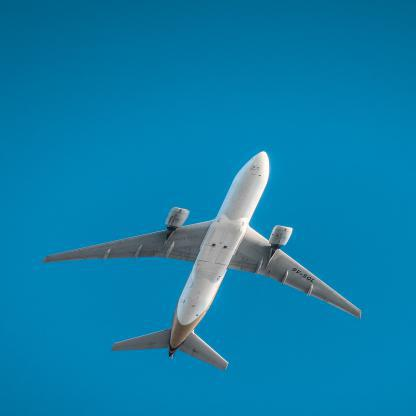CIV_Plane: (32, 148, 366, 370)
